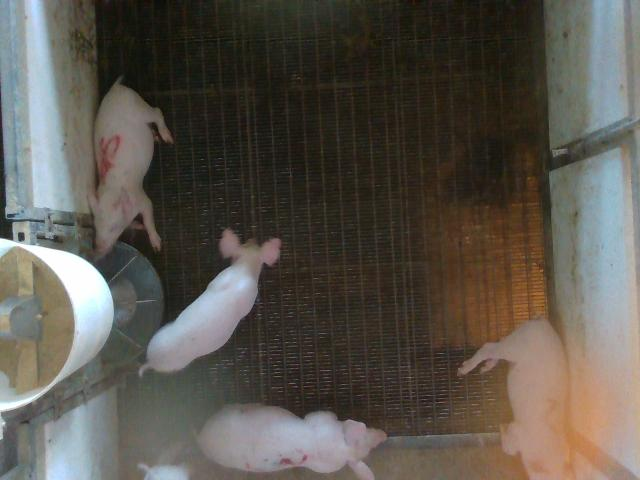pig-2: (458, 318, 568, 479)
pig-3: (198, 404, 386, 478)
pig-5: (89, 79, 172, 254)
